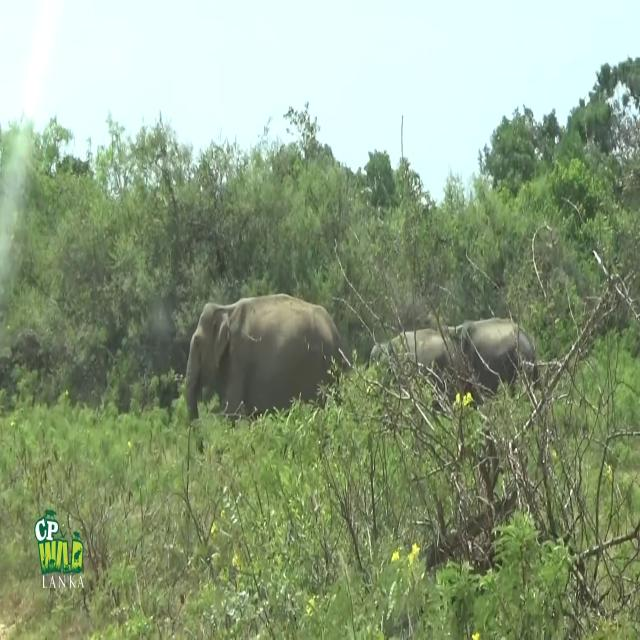Elephant: (185, 292, 350, 426), (368, 316, 541, 410)
